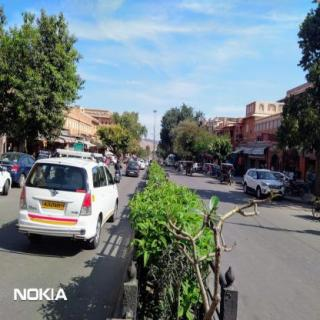Normal_vehicle: (16, 157, 118, 248)
